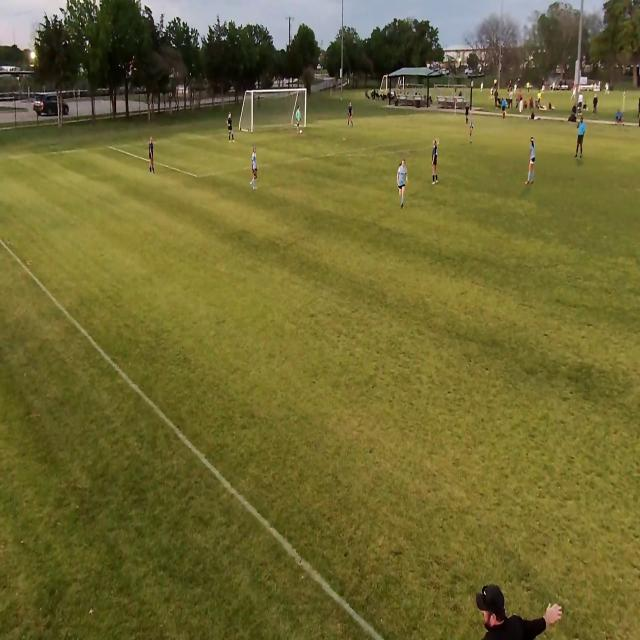ball: (300, 129, 302, 135)
team1: (432, 140, 440, 183), (149, 136, 156, 175), (227, 110, 235, 143), (346, 102, 354, 128), (464, 101, 470, 128)
team2: (398, 160, 409, 210), (527, 138, 537, 186), (250, 147, 258, 189), (468, 110, 476, 146)
